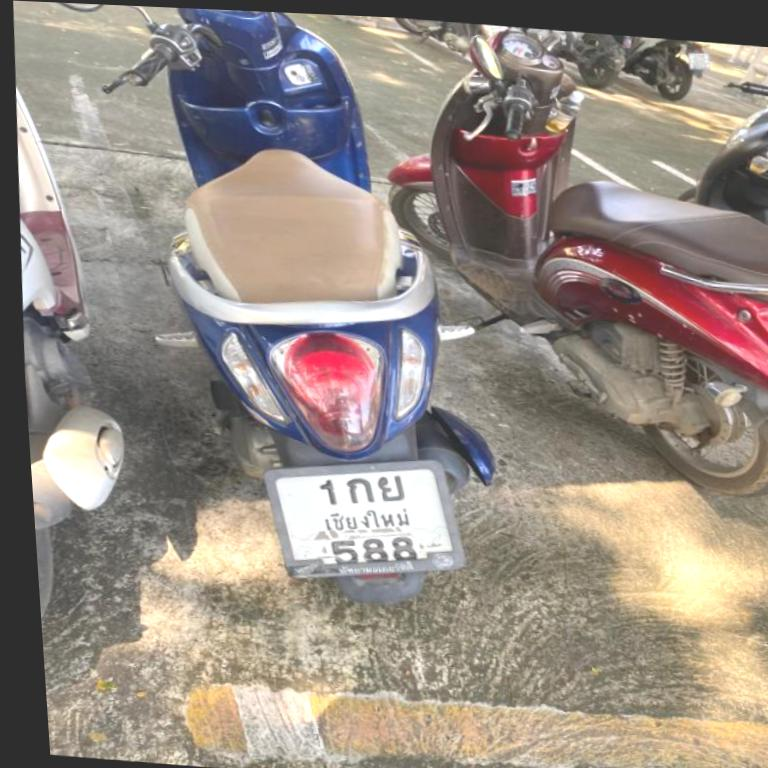license plate: (266, 461, 464, 576), (686, 45, 713, 78), (766, 401, 768, 477)
